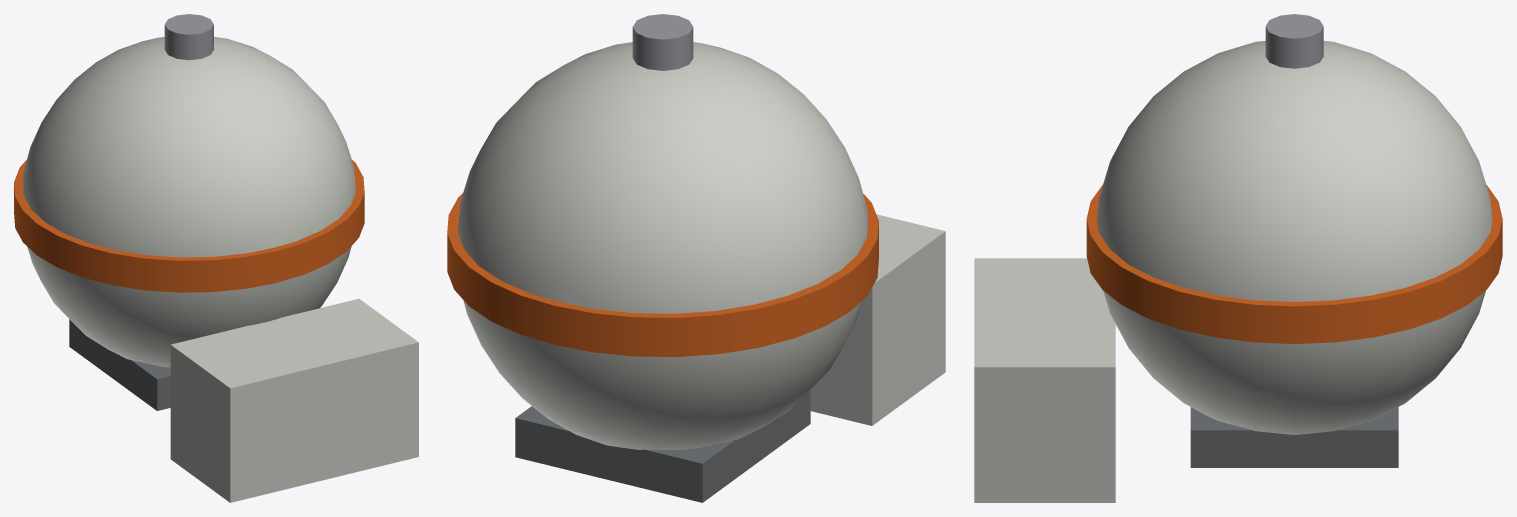
3 views of the same model, side by side, from view 1: azimuth 30°, elevation 25°; view 2: azimuth 150°, elevation 25°; view 3: azimuth 270°, elevation 25° (orthographic). The views are drawn at different scales.
Parts seen in each view (by area): view 1: o4_o2; view 2: o4_o2; view 3: o4_o2.
Part boxes in pixels (box(x1,y1,x2,y2)): o4_o2: box(14, 14, 418, 502); o4_o2: box(447, 14, 945, 502); o4_o2: box(974, 14, 1502, 502).
Size of the model in its own units: 1 by 1.12 by 1.27.
